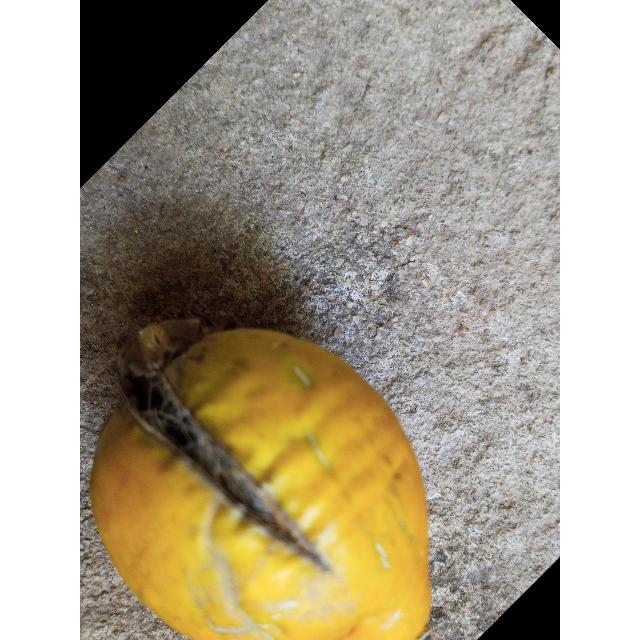damaged: (89, 318, 431, 640)
